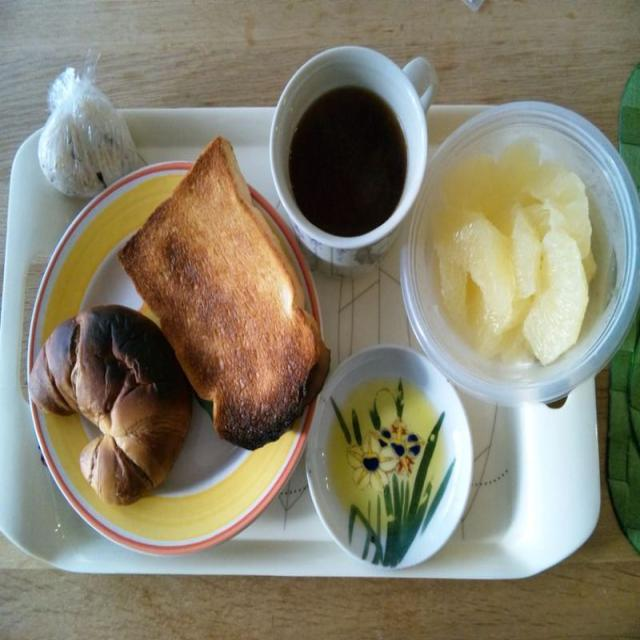Croissant: (14, 302, 202, 517)
